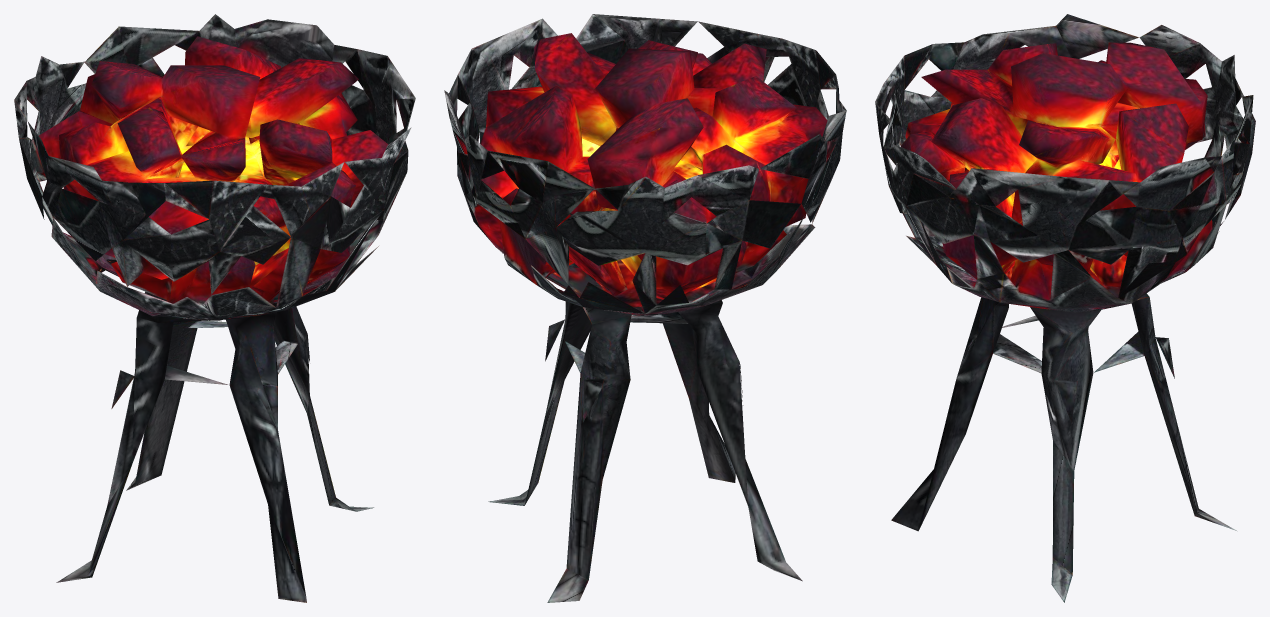
File: prop-den-brazier.glb
3 views of the same model, side by side, from view 1: azimuth 30°, elevation 25°; view 2: azimuth 150°, elevation 25°; view 3: azimuth 270°, elevation 25° (orthographic). The views are drawn at different scales.
Size of the model in its own units: 1.51 by 2 by 1.49.
1 material, 1 textured.
